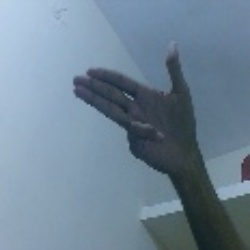hand: (62, 31, 209, 174)
